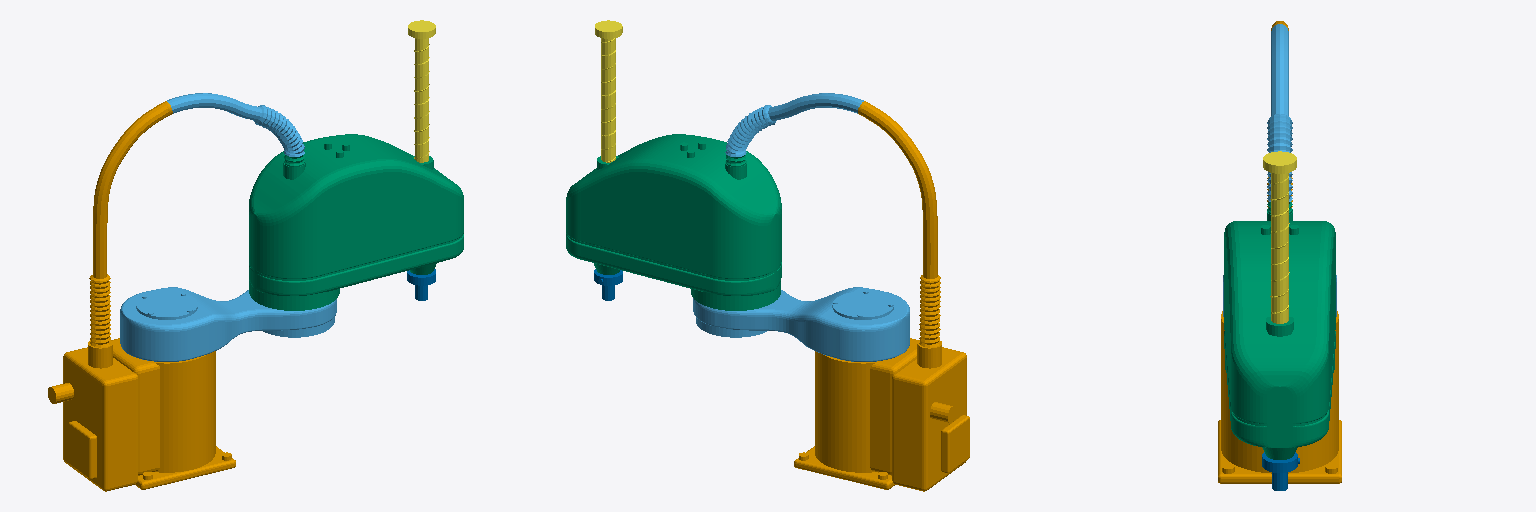
The robot description file, URDF, robot "fanuc_sr3ia_reference":
<?xml version="1.0"?>
<robot name="fanuc_sr3ia_reference">
<link name="base_link"><visual ><geometry ><mesh filename="../meshes/base_link.obj"/></geometry></visual><collision ><origin xyz="0 0 0.088" rpy="0 0 0"/><geometry ><cylinder radius="0.066" length="0.176"/></geometry></collision><collision ><origin xyz="-0.066 0 0.088" rpy="0 0 0"/><geometry ><box size="0.132 0.12 0.176"/></geometry></collision><collision ><origin xyz="-0.005 0 0.006" rpy="0 0 0"/><geometry ><box size="0.15 0.14 0.012"/></geometry></collision></link>
<link name="J1_link"><visual ><geometry ><mesh filename="../meshes/J1_link.obj"/></geometry></visual><collision ><origin xyz="0 0 0.029" rpy="0 0 0"/><geometry ><cylinder radius="0.064" length="0.058"/></geometry></collision><collision ><origin xyz="0.1 0 0.015" rpy="0 0 0"/><geometry ><box size="0.2 0.09 0.03"/></geometry></collision><collision ><origin xyz="0.2 0 0.008" rpy="0 0 0"/><geometry ><cylinder radius="0.058" length="0.044"/></geometry></collision></link>
<link name="J2_link"><visual ><geometry ><mesh filename="../meshes/J2_link.obj"/></geometry></visual><collision ><origin xyz="0 0 0.09" rpy="0 0 0"/><geometry ><cylinder radius="0.0625" length="0.18"/></geometry></collision><collision ><origin xyz="0.126 0 0.065" rpy="0 0 0"/><geometry ><box size="0.252 0.125 0.094"/></geometry></collision><collision ><origin xyz="0.1075 0 0.153" rpy="0 0 0"/><geometry ><box size="0.215 0.118 0.082"/></geometry></collision><collision ><origin xyz="0.2 0 0.0035" rpy="0 0 0"/><geometry ><cylinder radius="0.03" length="0.029"/></geometry></collision></link>
<link name="J3_link"><visual ><geometry ><mesh filename="../meshes/J3_link.obj"/></geometry></visual><collision ><origin xyz="0 0 0.219" rpy="0 0 0"/><geometry ><cylinder radius="0.01" length="0.358"/></geometry></collision><collision ><origin xyz="0 0 0.403" rpy="0 0 0"/><geometry ><cylinder radius="0.019" length="0.01"/></geometry></collision></link>
<link name="J4_link"><visual ><geometry ><mesh filename="../meshes/J4_link.obj"/></geometry></visual><collision ><origin xyz="0 0 0.019" rpy="0 0 0"/><geometry ><cylinder radius="0.02" length="0.038"/></geometry></collision></link>
<link name="flange"></link>
<link name="tool0"></link>
<joint name="J1" type="revolute"><parent link="base_link"/><child link="J1_link"/><origin xyz="0 0 0.176" rpy="0 0 0"/><axis xyz="0 0 1"/><limit lower="-2.478367537831948" upper="2.478367537831948" velocity="12.566370614359172"/></joint>
<joint name="J2" type="revolute"><parent link="J1_link"/><child link="J2_link"/><origin xyz="0.2 0 0.03" rpy="0 0 0"/><axis xyz="0 0 1"/><limit lower="-2.530727415391778" upper="2.530727415391778" velocity="13.61356816555577"/></joint>
<joint name="J3" type="prismatic"><parent link="J2_link"/><child link="J3_link"/><origin xyz="0.2 0 -0.056" rpy="0 0 0"/><axis xyz="0 0 -1"/><limit lower="0" upper="0.2" velocity="1.8"/></joint>
<joint name="J4" type="revolute"><parent link="J3_link"/><child link="J4_link"/><origin xyz="0 0 0" rpy="0 0 0"/><axis xyz="0 0 -1"/><limit lower="-12.566370614359172" upper="12.566370614359172" velocity="52.35987755982988"/></joint>
<joint name="J4_flange" type="fixed"><parent link="J4_link"/><child link="flange"/><origin xyz="0 0 0" rpy="3.14159265359 0 0"/></joint>
<joint name="flange_tool0" type="fixed"><parent link="flange"/><child link="tool0"/><origin xyz="0 0 0" rpy="0 0 0"/></joint>
</robot>

--- What the picture shows (computed from the rendered views, not written in the file) ---
3 views of the same robot in one strip: view 1: azimuth 30°, elevation 25°; view 2: azimuth 150°, elevation 25°; view 3: azimuth 270°, elevation 25° (orthographic).
Model fanuc_sr3ia_reference with 7 links and 6 joints (3 revolute, 1 prismatic, 2 fixed), rooted at base_link, posed all joints at 0.
Links seen in each view (by area): view 1: J2_link, base_link, J1_link, J3_link; view 2: J2_link, base_link, J1_link, J3_link; view 3: J2_link, base_link, J3_link, J1_link, J4_link.
Boxes of the visible links, bbox=[...] form: J2_link: bbox=[249, 134, 463, 310]; base_link: bbox=[48, 101, 235, 491]; J1_link: bbox=[120, 93, 336, 361]; J3_link: bbox=[408, 20, 435, 162]; J2_link: bbox=[566, 134, 781, 310]; base_link: bbox=[794, 101, 969, 491]; J1_link: bbox=[693, 93, 909, 361]; J3_link: bbox=[595, 20, 622, 162]; J2_link: bbox=[1224, 202, 1335, 459]; base_link: bbox=[1218, 21, 1341, 483]; J3_link: bbox=[1263, 151, 1296, 323]; J1_link: bbox=[1223, 24, 1336, 316]; J4_link: bbox=[1262, 452, 1299, 490].
Bounding box of the posed robot: 0.612 × 0.14 × 0.558 m (x, y, z).
Meshes: 5 distinct files referenced, 5 mesh visuals loaded (5 OBJ).
